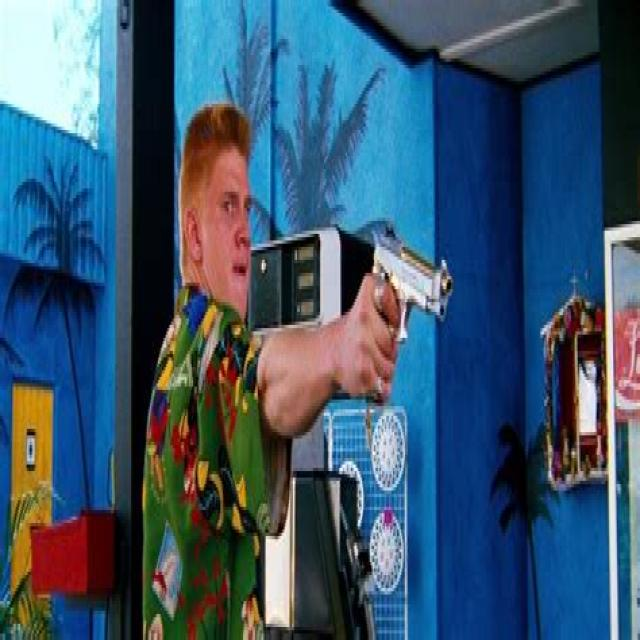weapons: (357, 188, 459, 431)
